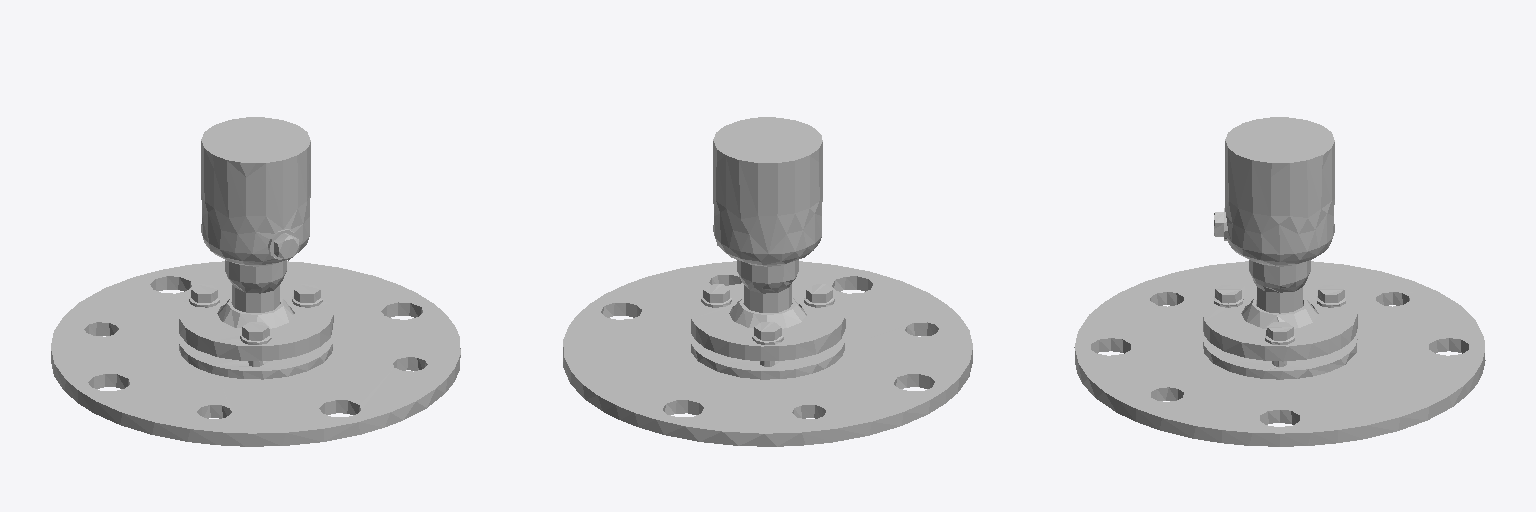
Rendered from blender-flange_14-b7-vertice-merge-fix-2400.obj.
The picture shows the model from 3 angles: view 1: azimuth 30°, elevation 25°; view 2: azimuth 150°, elevation 25°; view 3: azimuth 270°, elevation 25°; orthographic projection.
Parts seen in each view (by area): view 1: flange_14-b7-vertice-merge-fix; view 2: flange_14-b7-vertice-merge-fix; view 3: flange_14-b7-vertice-merge-fix.
Boxes of the visible parts, box(x1,y1,x2,y2) form: flange_14-b7-vertice-merge-fix: box(51, 117, 460, 446); flange_14-b7-vertice-merge-fix: box(563, 117, 972, 446); flange_14-b7-vertice-merge-fix: box(1074, 117, 1485, 446).
Size of the model in its own units: 225 by 140 by 225.